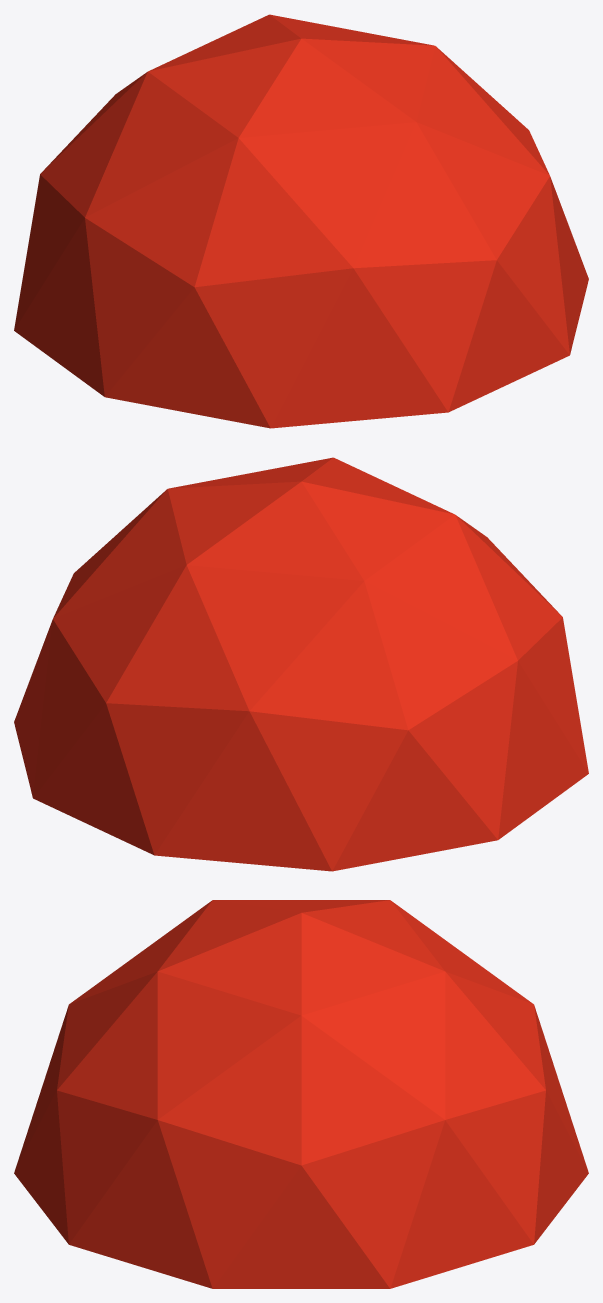
3 renders of one model, top to bottom at view 1: azimuth 30°, elevation 25°; view 2: azimuth 150°, elevation 25°; view 3: azimuth 270°, elevation 25°, orthographic. The views are drawn at different scales.
Parts seen in each view (by area): view 1: ICO球; view 2: ICO球; view 3: ICO球.
Boxes of the visible parts, x1,y1,x2,y2 form: ICO球: (14,14,588,428); ICO球: (14,457,588,871); ICO球: (14,900,588,1288).
Size of the model in its own units: 190 by 100 by 200.
